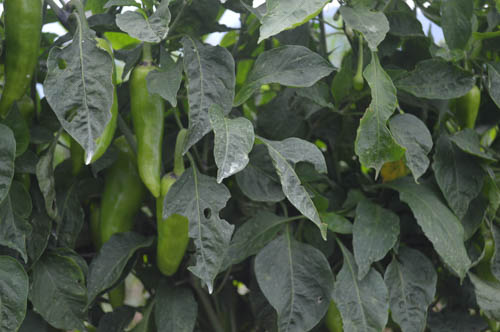ChiliPepper: (1, 3, 44, 122), (130, 63, 163, 203), (153, 177, 196, 284), (96, 159, 144, 254), (82, 100, 119, 170)
